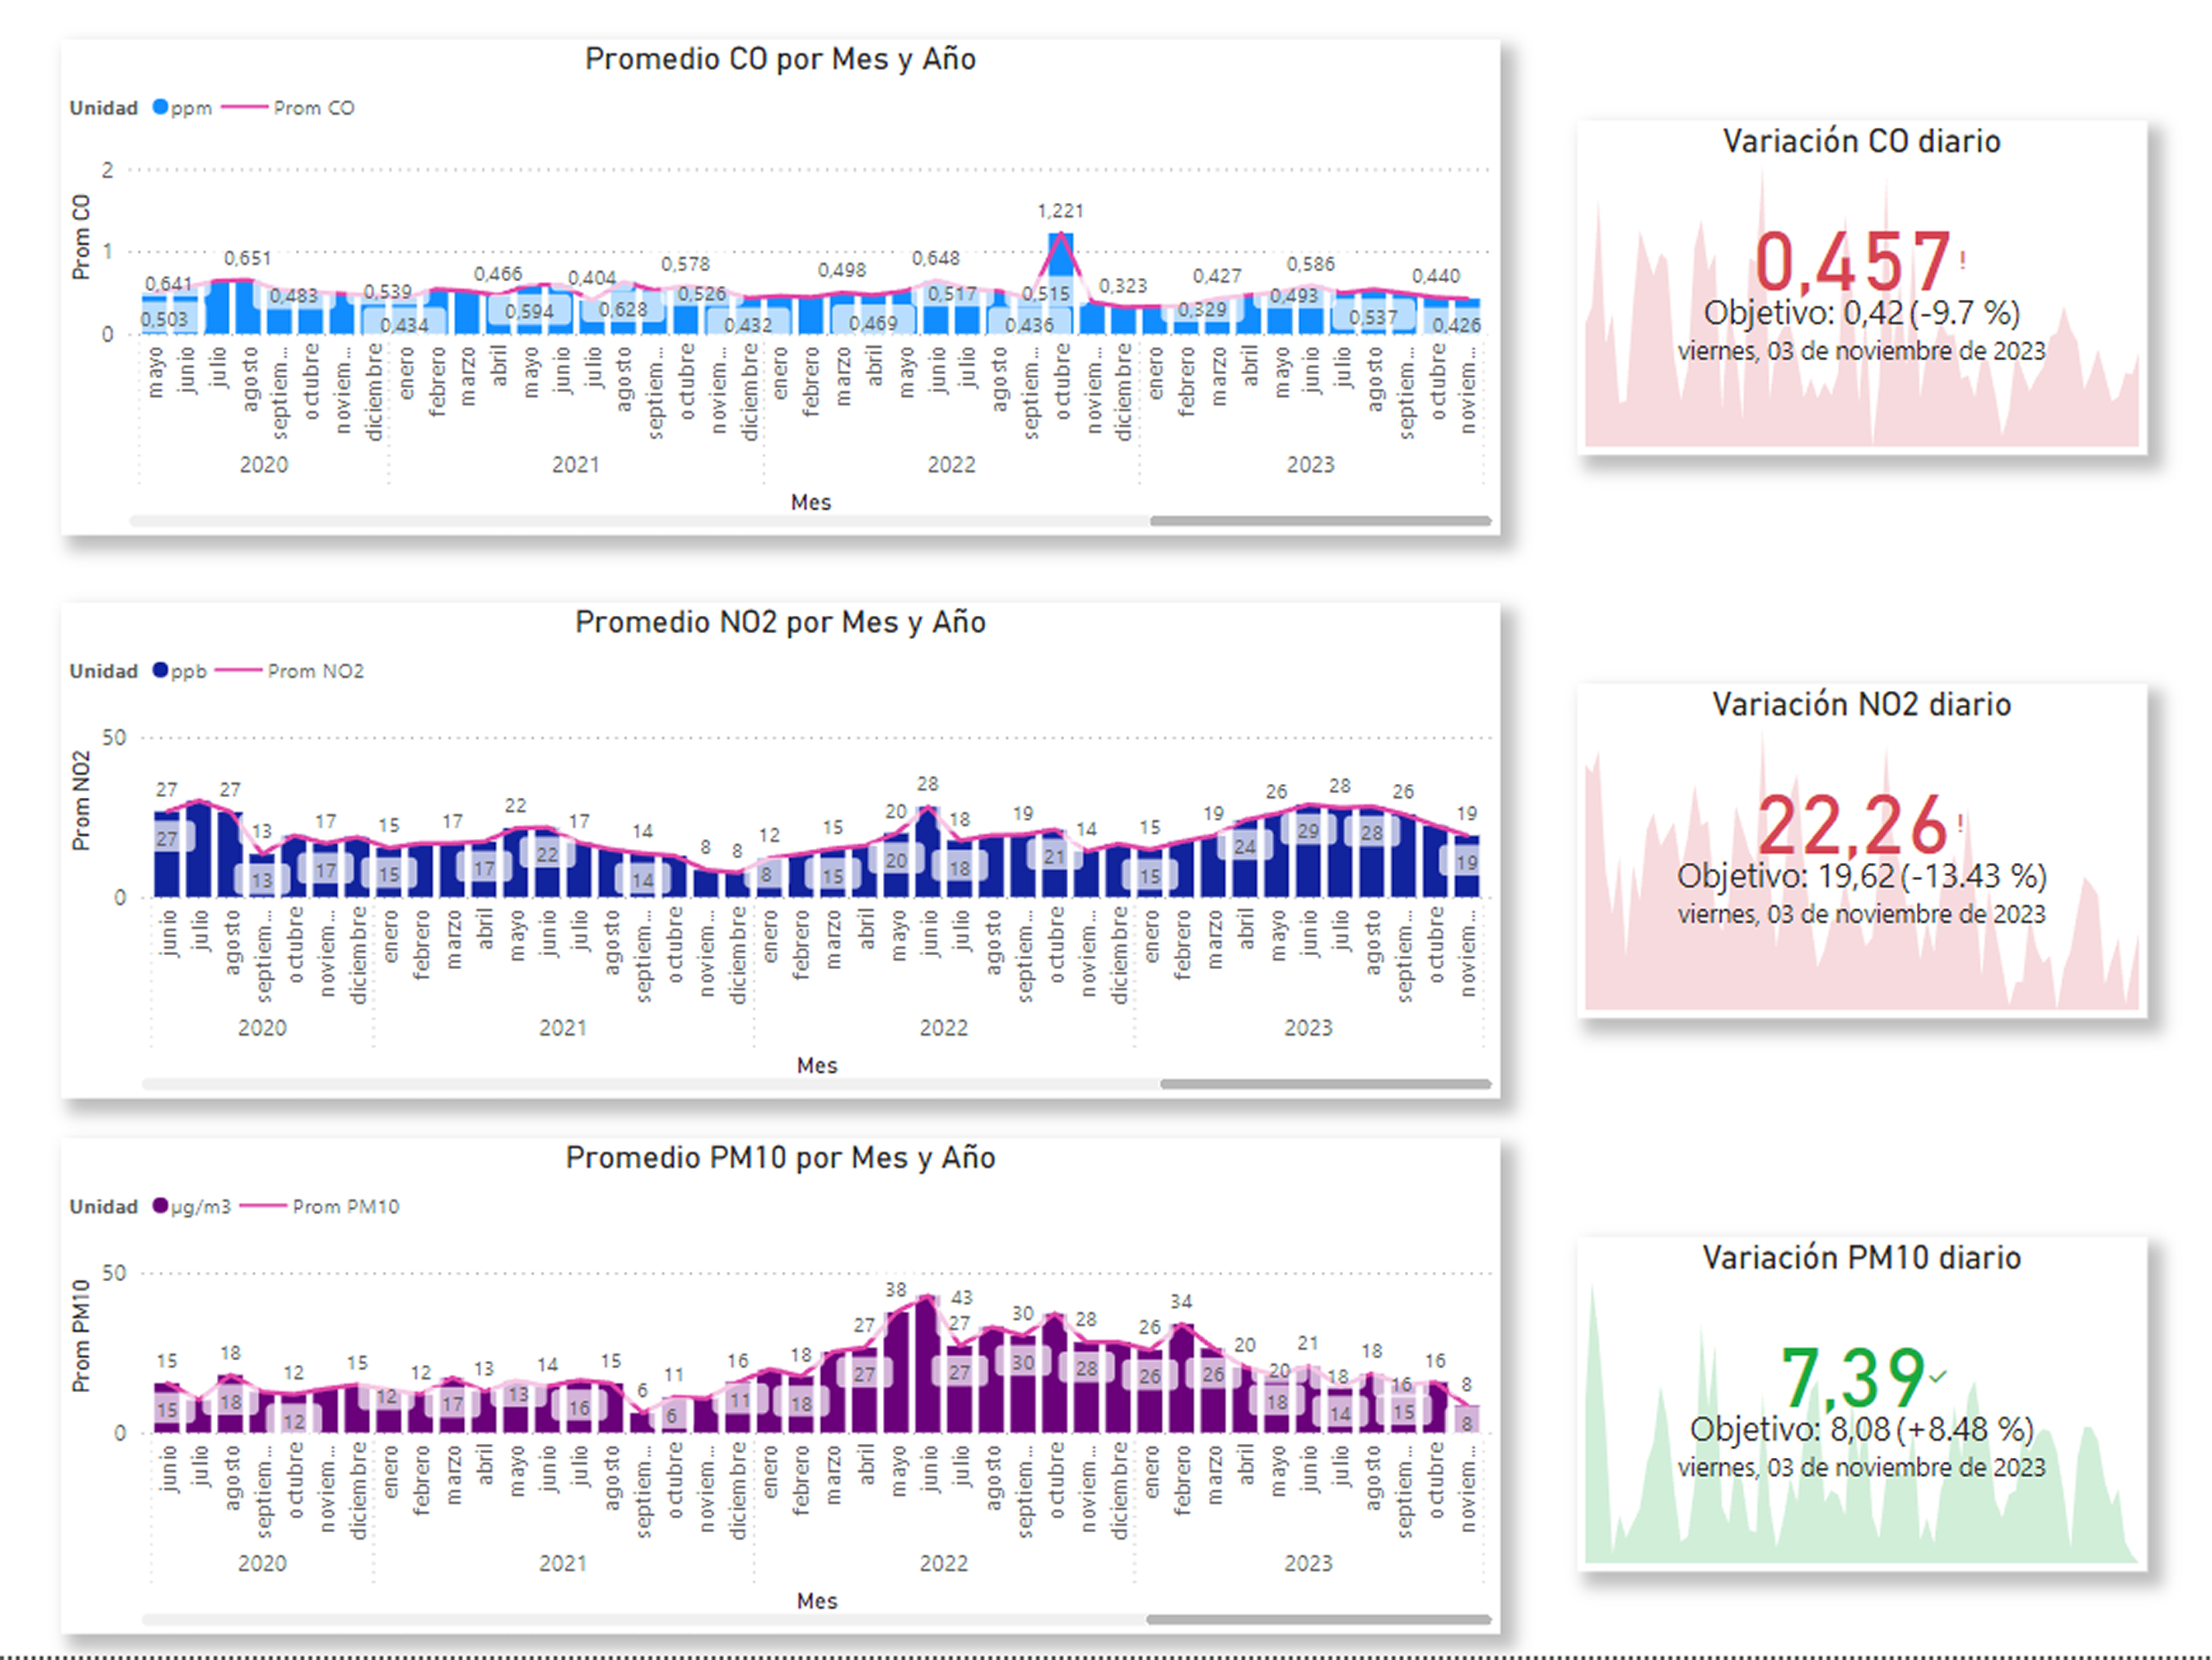

The page's visual inventory and layout, read from the dashboard file:
{"tool":"powerbi","page":{"name":"Página 1","canvas":[1500,1100],"ordinal":0},"visuals":[{"type":"actionButton","box":[0,0,100,40],"z":1000},{"type":"lineClusteredColumnComboChart","title":"Promedio CO por Mes y Año","fields":{"Category":["Medidas_Contaminantes_Aire_BsAs.fecha.Variación.Jerarquía de fechas.Año","Medidas_Contaminantes_Aire_BsAs.fecha.Variación.Jerarquía de fechas.Mes"],"Y":["Medidas_Contaminantes_Aire_BsAs.Prom CO"],"Series":["Medidas_Contaminantes_Aire_BsAs.unidad"],"Y2":["Medidas_Contaminantes_Aire_BsAs.Prom CO"]},"box":[76.6,56.1,929,320.3],"z":2000},{"type":"lineClusteredColumnComboChart","title":"Promedio NO2 por Mes y Año ","fields":{"Category":["Medidas_Contaminantes_Aire_BsAs.fecha.Variación.Jerarquía de fechas.Año","Medidas_Contaminantes_Aire_BsAs.fecha.Variación.Jerarquía de fechas.Mes"],"Y":["Medidas_Contaminantes_Aire_BsAs.Prom NO2"],"Series":["Medidas_Contaminantes_Aire_BsAs.unidad"],"Y2":["Medidas_Contaminantes_Aire_BsAs.Prom NO2"]},"box":[76.6,419.8,929,320.3],"z":3000},{"type":"lineClusteredColumnComboChart","title":"Promedio PM10 por Mes  y Año","fields":{"Category":["Medidas_Contaminantes_Aire_BsAs.fecha.Variación.Jerarquía de fechas.Año","Medidas_Contaminantes_Aire_BsAs.fecha.Variación.Jerarquía de fechas.Mes"],"Y":["Medidas_Contaminantes_Aire_BsAs.Prom PM10"],"Series":["Medidas_Contaminantes_Aire_BsAs.unidad"],"Y2":["Medidas_Contaminantes_Aire_BsAs.Prom PM10"]},"box":[76.6,765.7,929,320.3],"z":4000},{"type":"kpi","title":"Variación CO diario","fields":{"TrendLine":["Medidas_Contaminantes_Aire_BsAs.fecha"],"Goal":["Medidas_Contaminantes_Aire_BsAs.destino"],"Indicator":["Medidas_Contaminantes_Aire_BsAs.Prom CO"]},"box":[1055.3,108.5,367.5,215.7],"z":5000},{"type":"kpi","title":"Variación NO2 diario","fields":{"Indicator":["Medidas_Contaminantes_Aire_BsAs.Prom NO2"],"TrendLine":["Medidas_Contaminantes_Aire_BsAs.fecha"],"Goal":["Medidas_Contaminantes_Aire_BsAs.destino NO2"]},"box":[1055.3,472.2,367.5,215.7],"z":6000},{"type":"kpi","title":"Variación PM10 diario","fields":{"TrendLine":["Medidas_Contaminantes_Aire_BsAs.fecha"],"Goal":["Medidas_Contaminantes_Aire_BsAs.destino PM10"],"Indicator":["Medidas_Contaminantes_Aire_BsAs.Prom PM10"]},"box":[1055.3,829.5,367.5,215.7],"z":7000}]}

Visuals, with their boxes in screenshot pixels (x1, y1, x2, y2), scaled from the page's 1500x1100 canvas onto the 2212x1660 screenshot:
actionButton: crop(0, 0, 147, 60)
"Promedio CO por Mes y Año" lineClusteredColumnComboChart: crop(113, 84, 1483, 568)
"Promedio NO2 por Mes y Año " lineClusteredColumnComboChart: crop(113, 634, 1483, 1117)
"Promedio PM10 por Mes  y Año" lineClusteredColumnComboChart: crop(113, 1156, 1483, 1639)
"Variación CO diario" kpi: crop(1556, 163, 2098, 490)
"Variación NO2 diario" kpi: crop(1556, 713, 2098, 1038)
"Variación PM10 diario" kpi: crop(1556, 1252, 2098, 1577)
